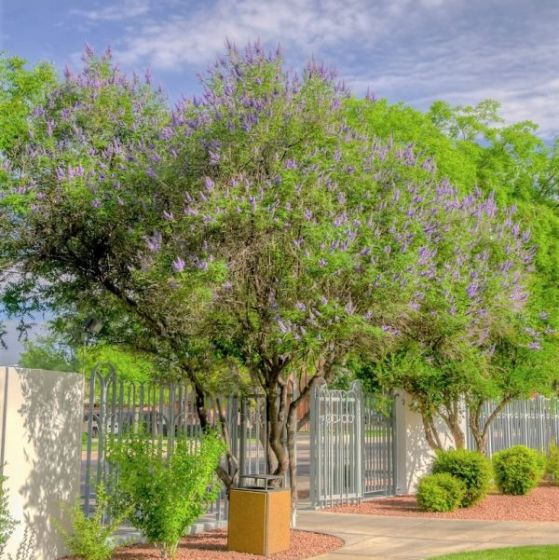bush: (416, 446, 489, 517)
tree: (24, 51, 533, 521)
